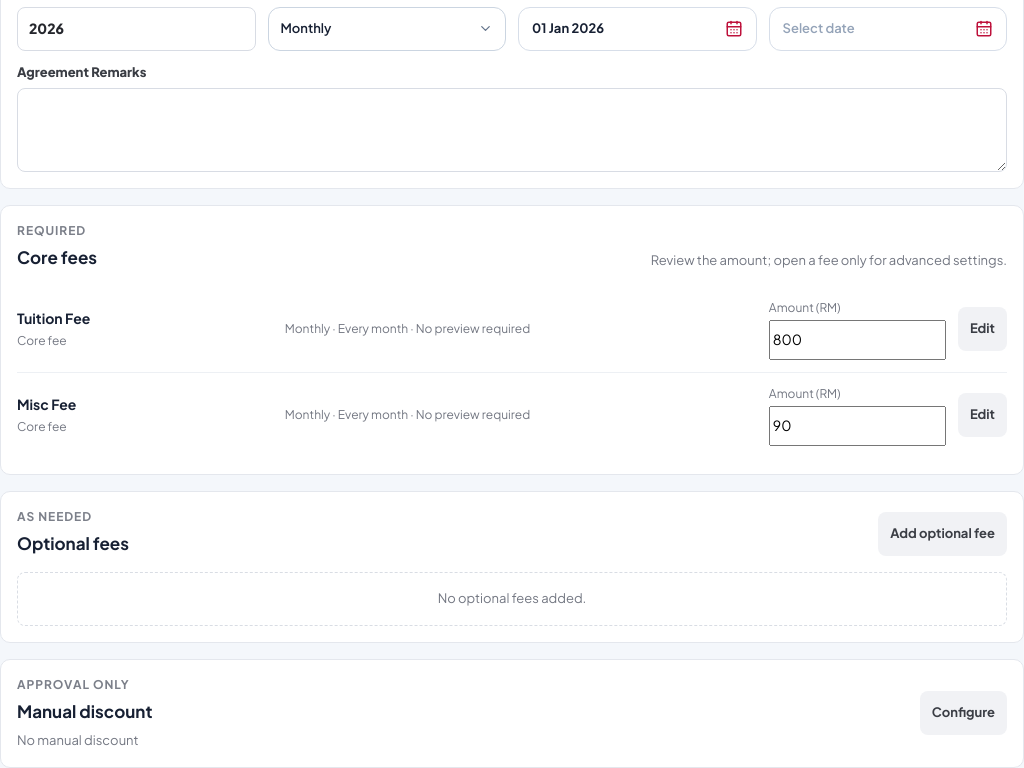
Test: FeeAgreementEditor › adds and removes an optional fee without showing disabled fees by default
The width and height of the screenshot is (1024, 768).
(page scrolled)
Expected: the text "Transport" is not shown
Click the button "Add optional fee": point(943, 534) [878, 512, 1007, 556]
(page scrolled)
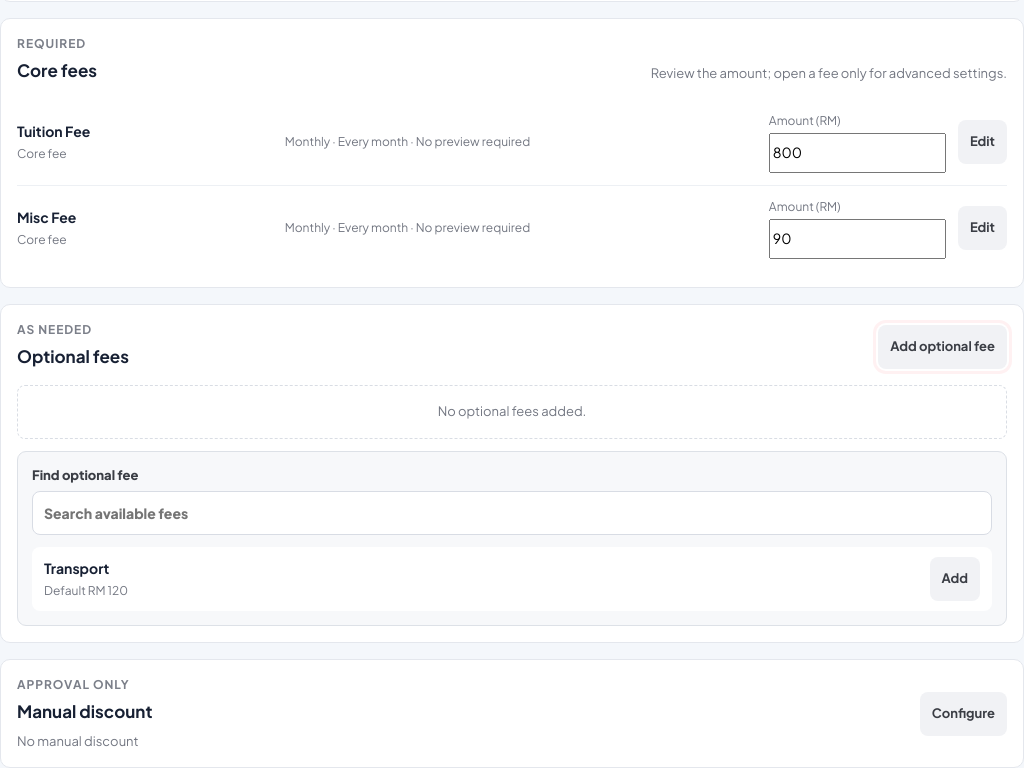
Click the button with aria-label "Add Transport": point(955, 579) [930, 557, 980, 601]
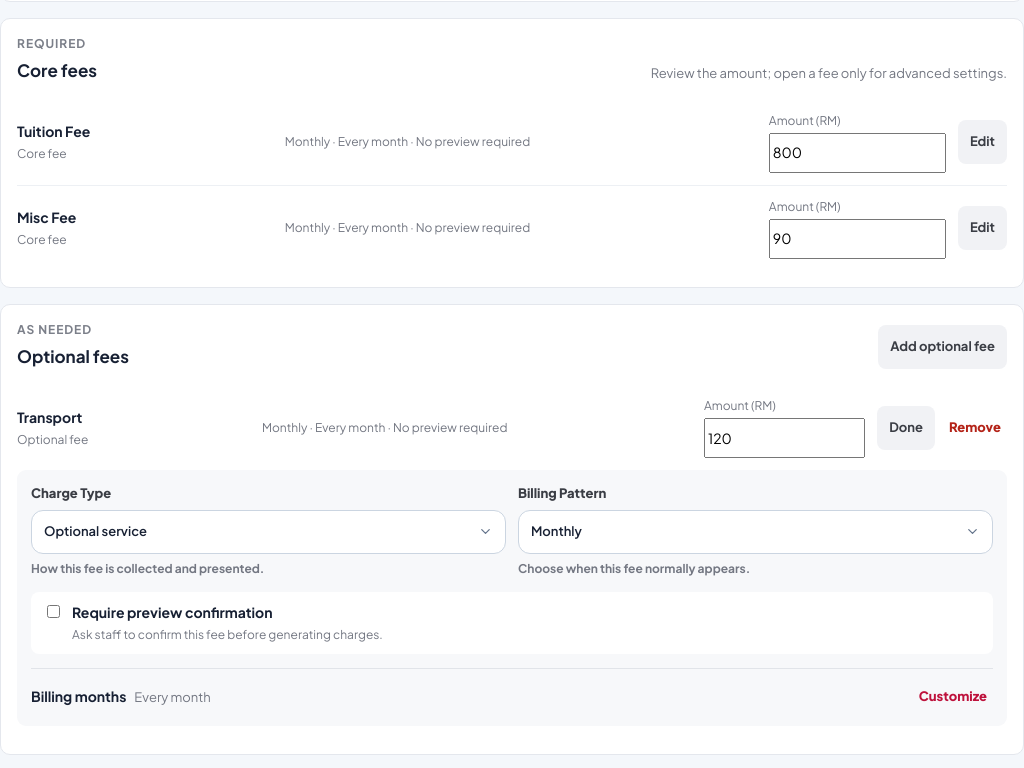
Expected: the text "Transport" is shown, [17, 408, 82, 426]
Expected: the label named "Transport Charge Type" is shown, [31, 484, 506, 578]
Click the button with aria-label "Remove Transport": point(975, 428) [943, 412, 1007, 443]
(page scrolled)
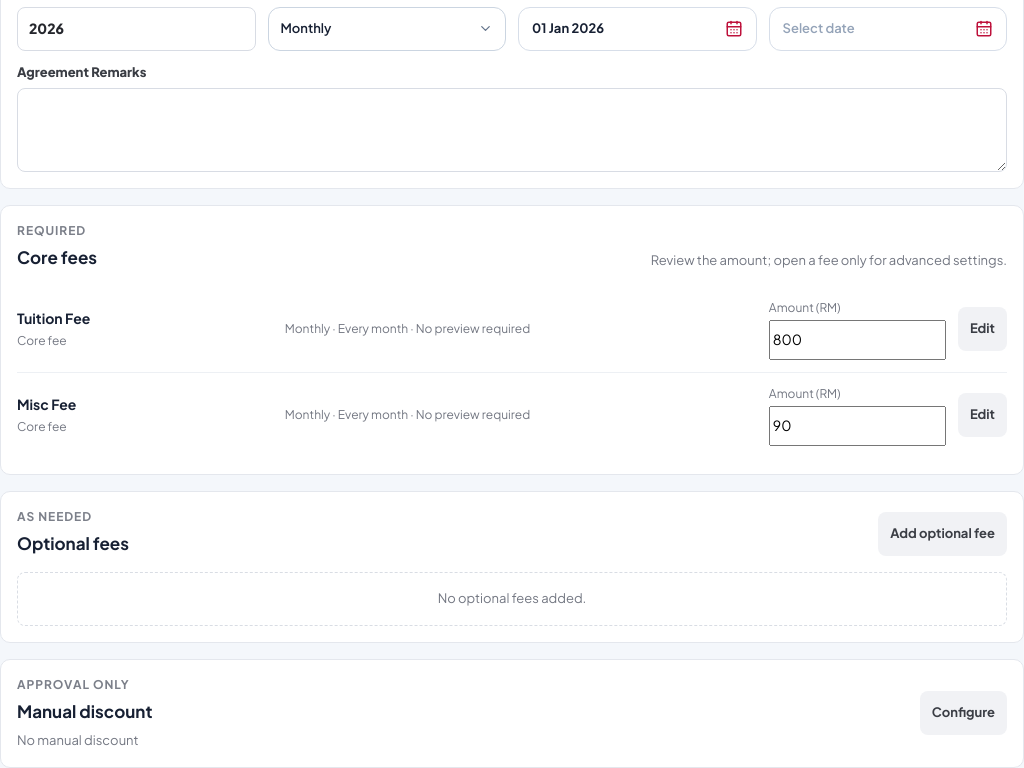
Expected: the text "Transport" is gone
